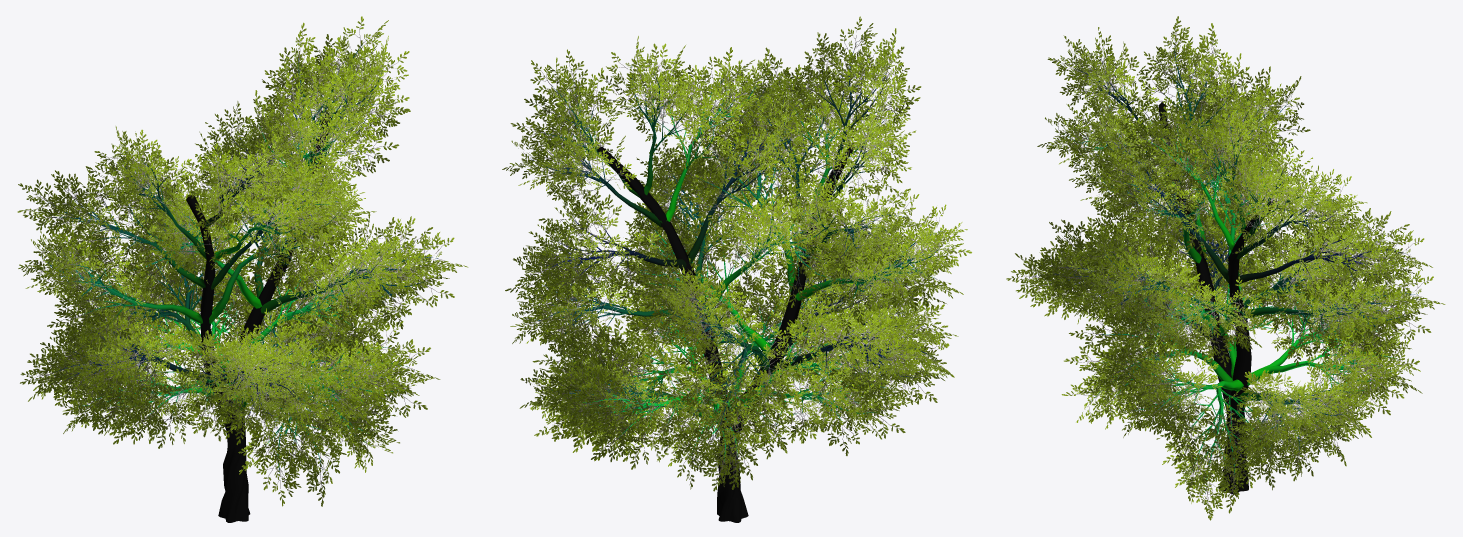
The model's file is OakTree03.fbx.
The picture shows the model from 3 angles, left to right: view 1: azimuth 30°, elevation 25°; view 2: azimuth 150°, elevation 25°; view 3: azimuth 270°, elevation 25°; orthographic projection. The views are drawn at different scales.
Parts seen in each view (by area): view 1: Tree_1, Tree_0; view 2: Tree_1, Tree_0; view 3: Tree_1, Tree_0.
Boxes of the visible parts, x1=… form: Tree_1: x1=17, y1=16, x2=468, y2=506; Tree_0: x1=42, y1=44, x2=437, y2=522; Tree_1: x1=502, y1=16, x2=971, y2=491; Tree_0: x1=529, y1=51, x2=942, y2=522; Tree_1: x1=1006, y1=16, x2=1445, y2=520; Tree_0: x1=1035, y1=45, x2=1417, y2=494.
Bounding box in the file's own units: 132 × 142 × 131.
